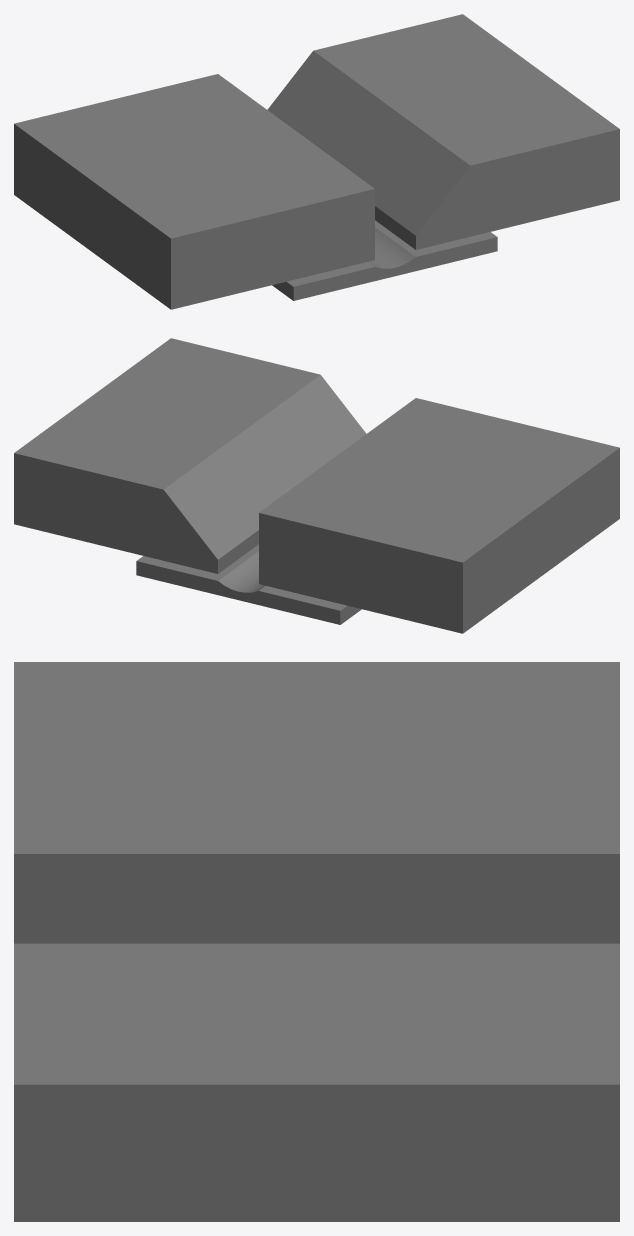
Rendered from С9_Кромки.glb.
3 views of the same model, one above another, from view 1: azimuth 30°, elevation 25°; view 2: azimuth 150°, elevation 25°; view 3: azimuth 270°, elevation 25° (orthographic). The views are drawn at different scales.
Parts seen in each view (by area): view 1: node_id3; view 2: node_id3; view 3: node_id3.
Part boxes in pixels (<box>): node_id3: <box>14,14,619,309</box>; node_id3: <box>14,338,619,633</box>; node_id3: <box>14,662,619,1221</box>.
Size of the model in its own units: 0.512 by 0.1006 by 0.3103.
1 material, 1 textured.
